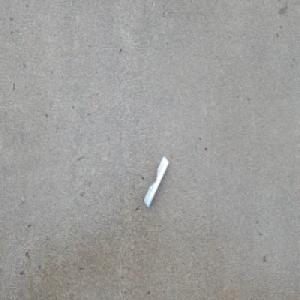ClampPart: (143, 155, 169, 209)
